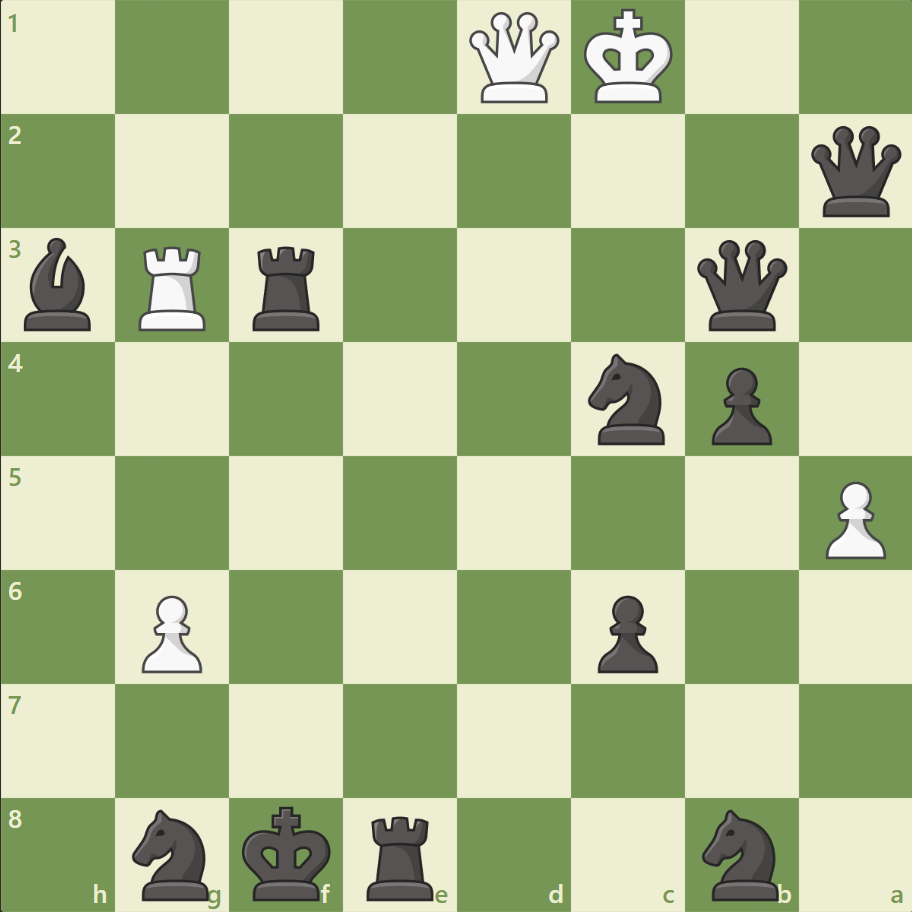K: (579, 4, 679, 112)
P: (133, 586, 208, 677), (815, 473, 889, 564)
Q: (464, 9, 563, 108)
R: (133, 239, 215, 336)
b: (17, 233, 101, 336)
k: (238, 798, 338, 906)
n: (124, 802, 222, 904), (692, 802, 789, 904), (579, 348, 676, 450)
p: (701, 359, 776, 450), (588, 586, 662, 677)
q: (805, 122, 904, 222), (691, 236, 790, 335)
r: (246, 239, 329, 336), (360, 806, 442, 904)
